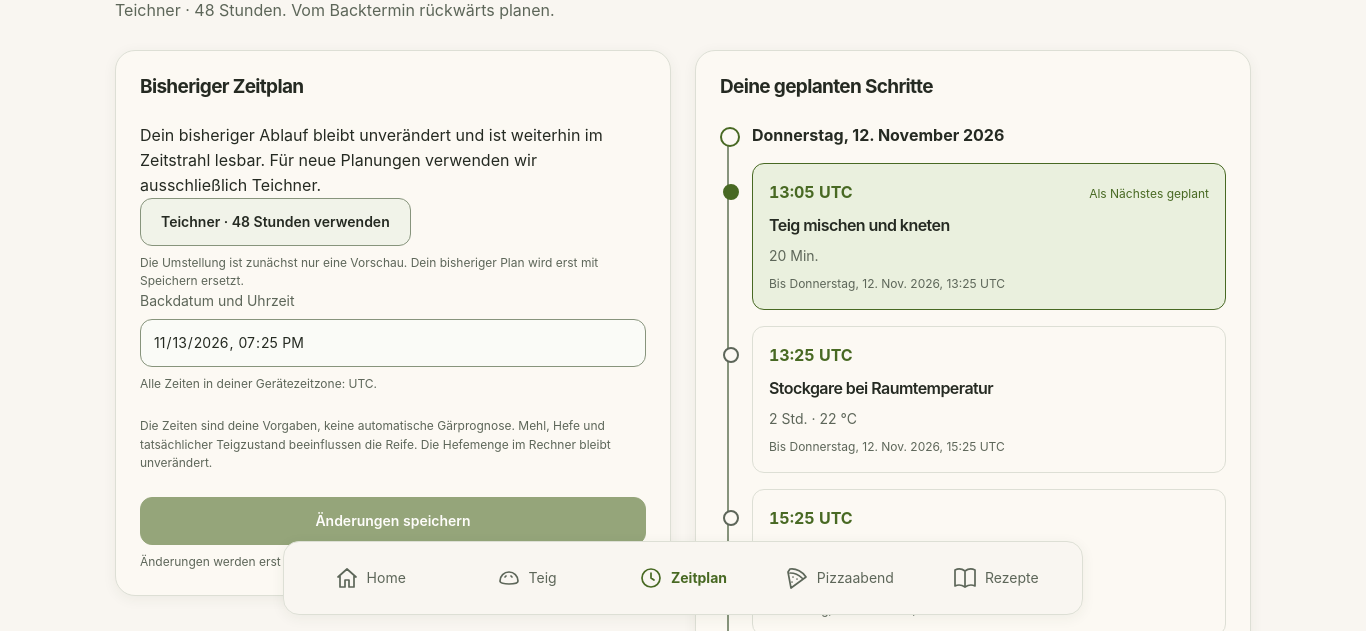
Test: Teichner template integration › retains the staged draft on failed save without replacing the old plan
Click the button "Teichner · 48 Stunden verwenden".
click(275, 222)  # box [140,198,411,246]
(page scrolled)
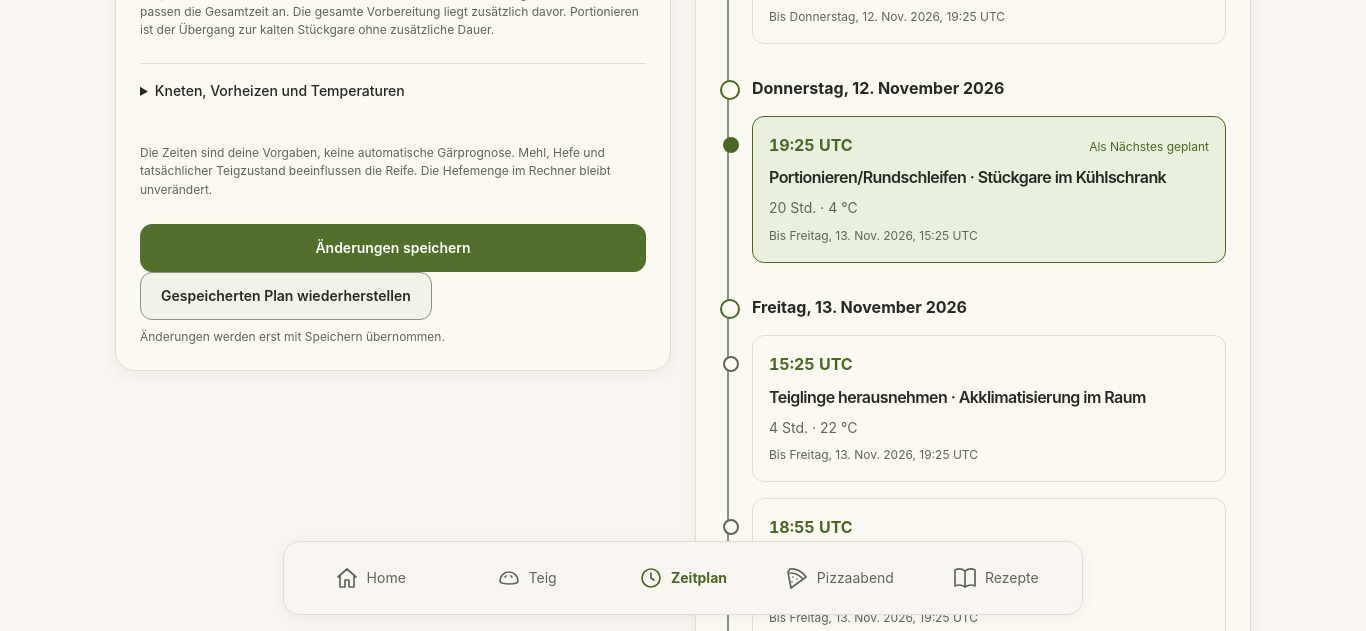
Click the button "Änderungen speichern".
click(393, 248)  # box [140,224,646,272]
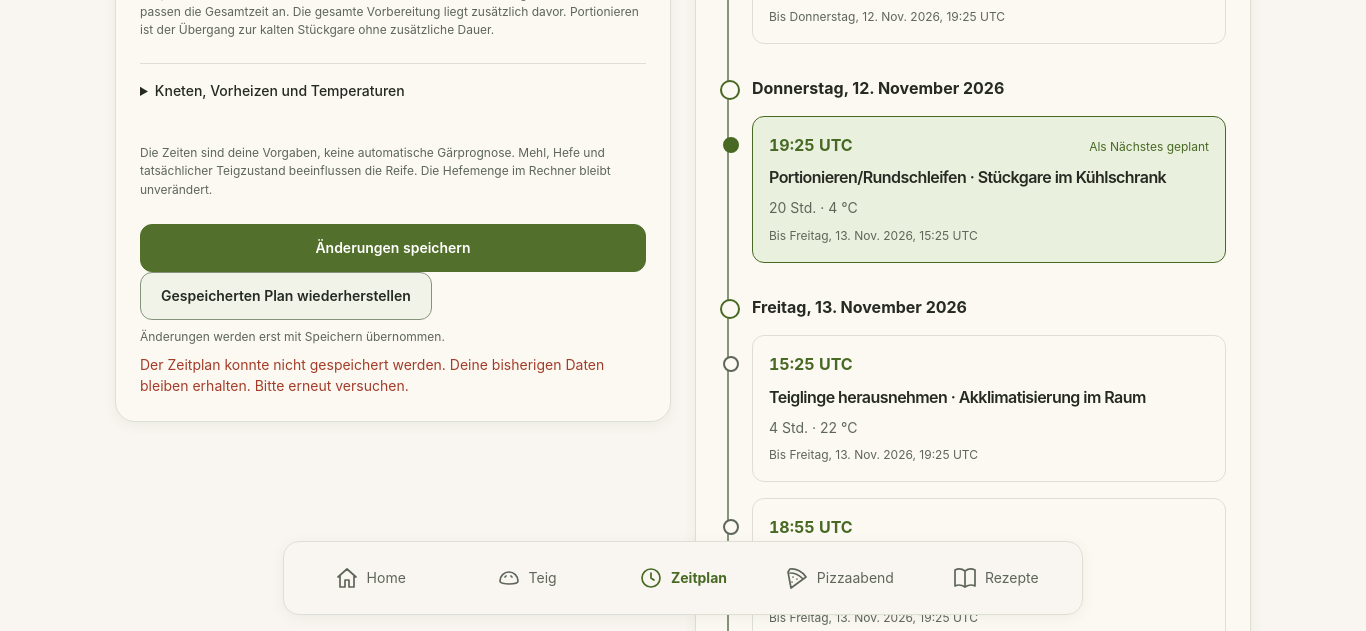
Check: the message shows "nicht gespeichert", box [140,356,604,394]
Click the button "Änderungen speichern".
click(393, 248)  # box [140,224,646,272]
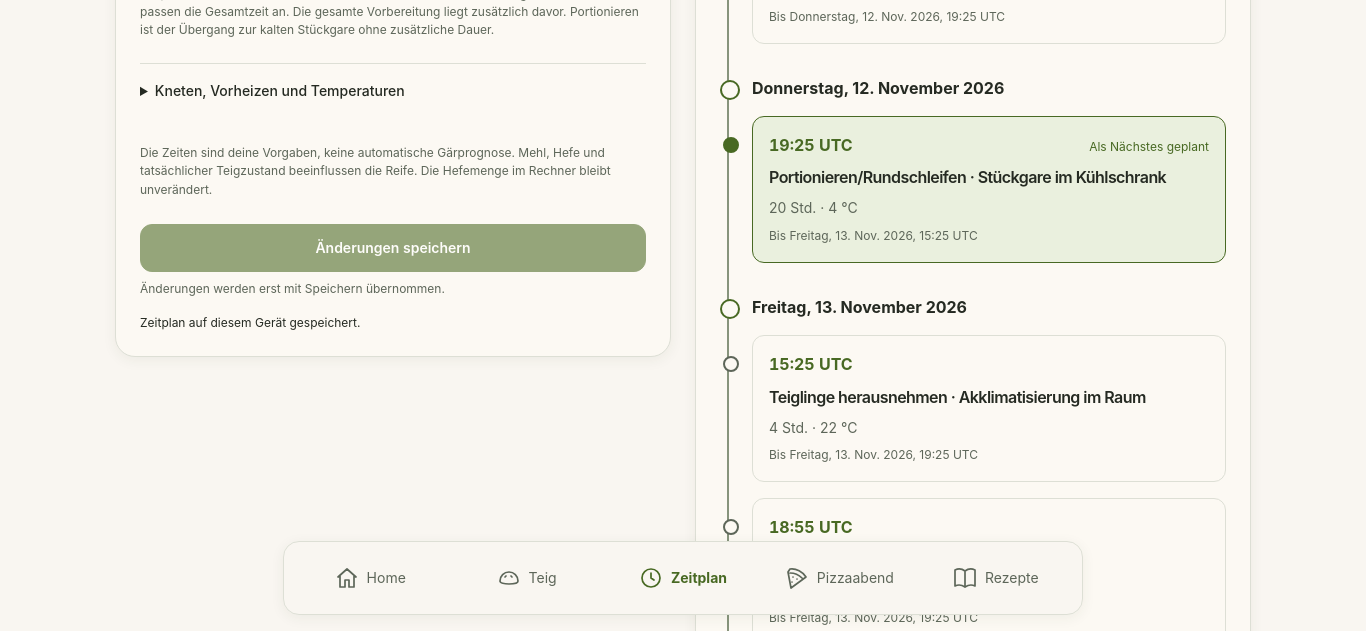
Check: the text "Zeitplan auf diesem Gerät gespeichert." is shown, box [140,315,360,330]
